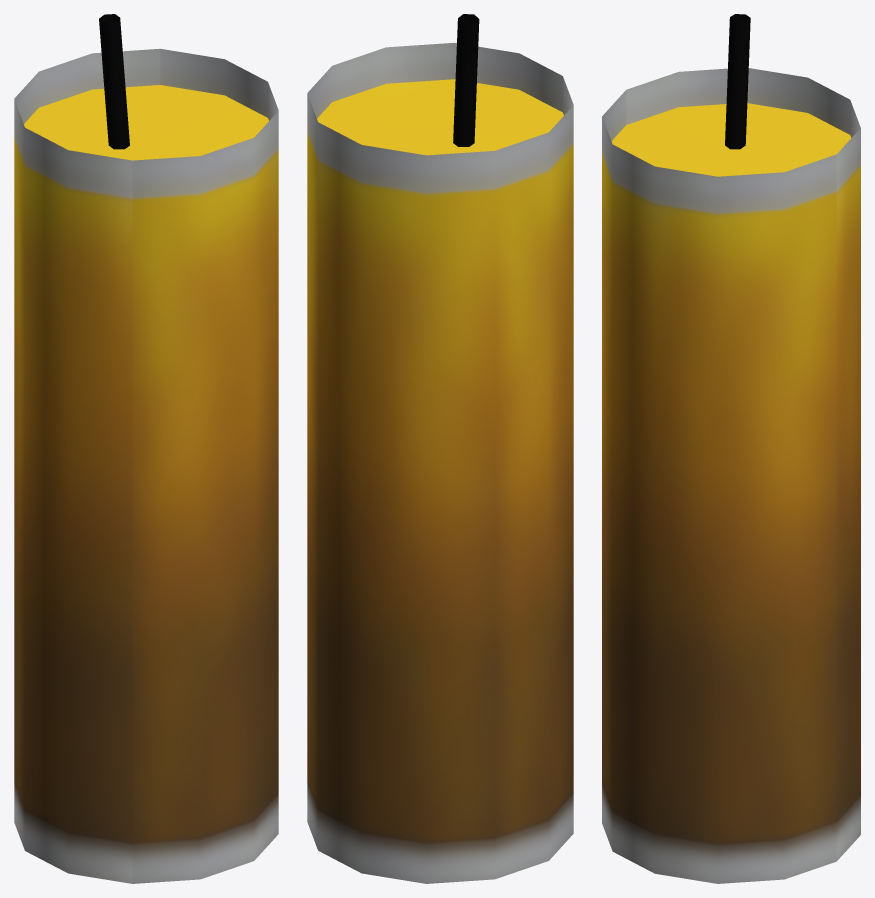
Rendered from Drink1.fbx.
The picture shows the model from 3 angles, left to right: view 1: azimuth 30°, elevation 25°; view 2: azimuth 150°, elevation 25°; view 3: azimuth 270°, elevation 25°; orthographic projection. The views are drawn at different scales.
Parts seen in each view (by area): view 1: Empty_Mesh; view 2: Empty_Mesh; view 3: Empty_Mesh.
Part boxes in pixels (x1,y1,x2,y2): Empty_Mesh: (14,14,278,883); Empty_Mesh: (307,14,573,883); Empty_Mesh: (602,14,860,883).
Bounding box in the file's own units: 4.97 × 16.9 × 4.97.
